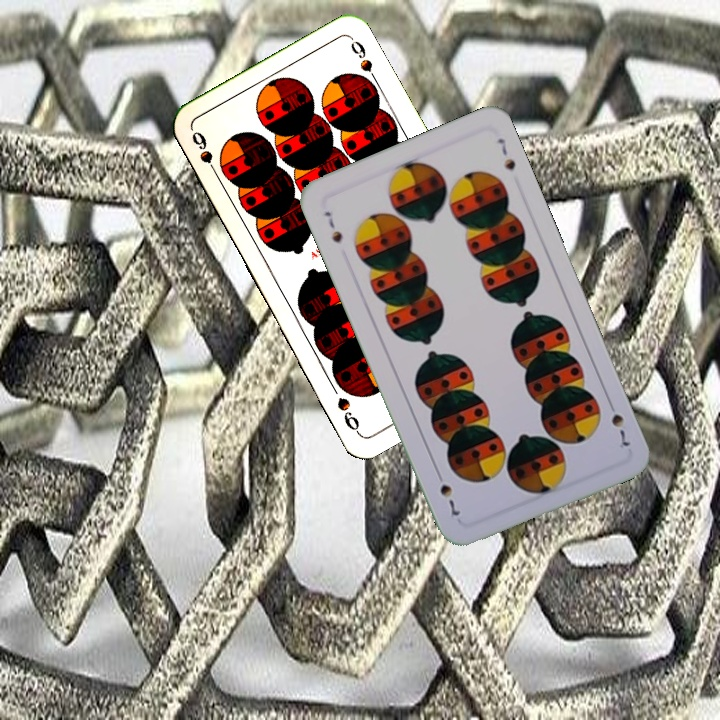S7: (603, 395, 633, 451), (320, 207, 345, 246)
S9: (187, 126, 223, 182)
